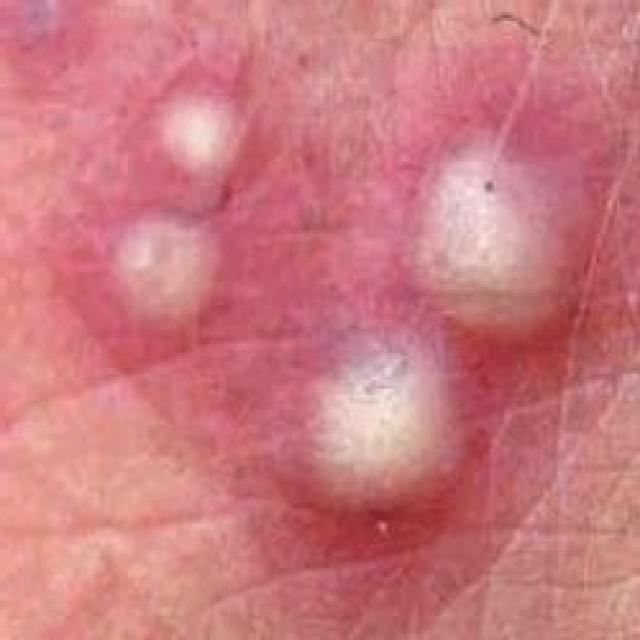pustule: (25, 64, 606, 593)
